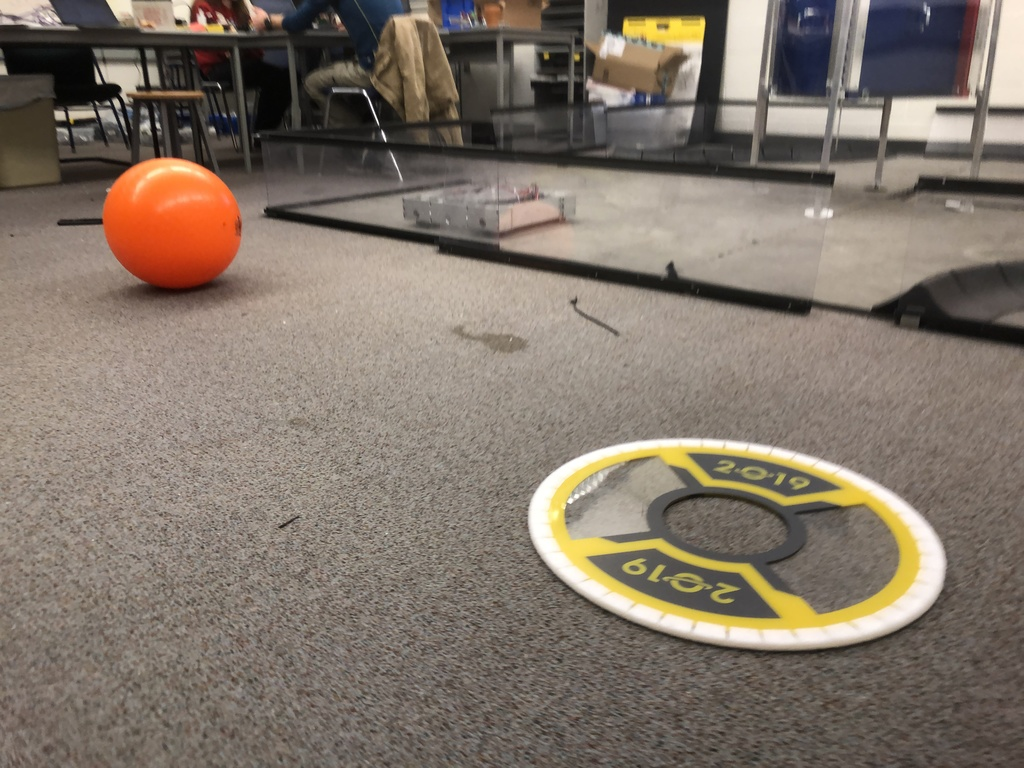hatch_panel: (513, 417, 967, 658)
